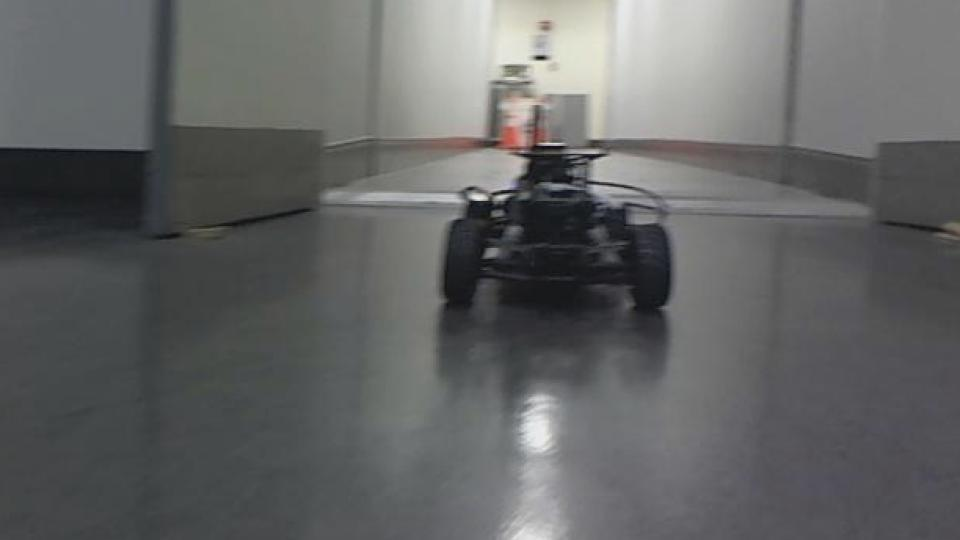car: (436, 138, 678, 314)
